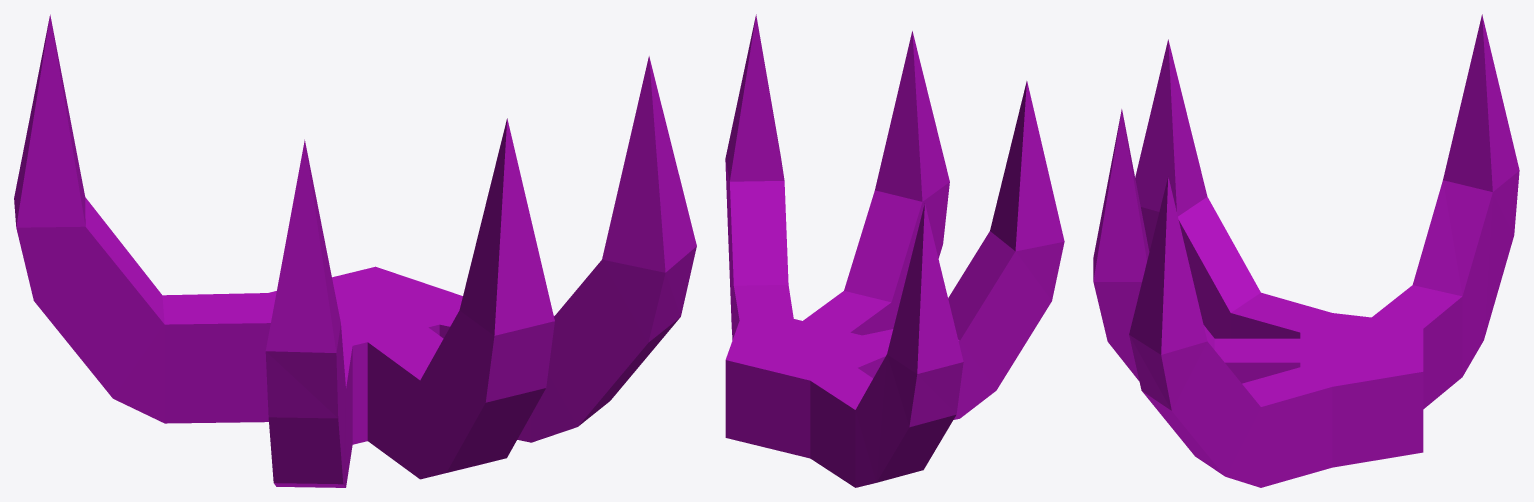
The model's file is gfx_187.obj.
The picture shows the model from 3 angles, left to right: view 1: azimuth 30°, elevation 25°; view 2: azimuth 150°, elevation 25°; view 3: azimuth 270°, elevation 25°; orthographic projection. The views are drawn at different scales.
Size of the model in its own units: 2.03 by 1.56 by 1.87.
